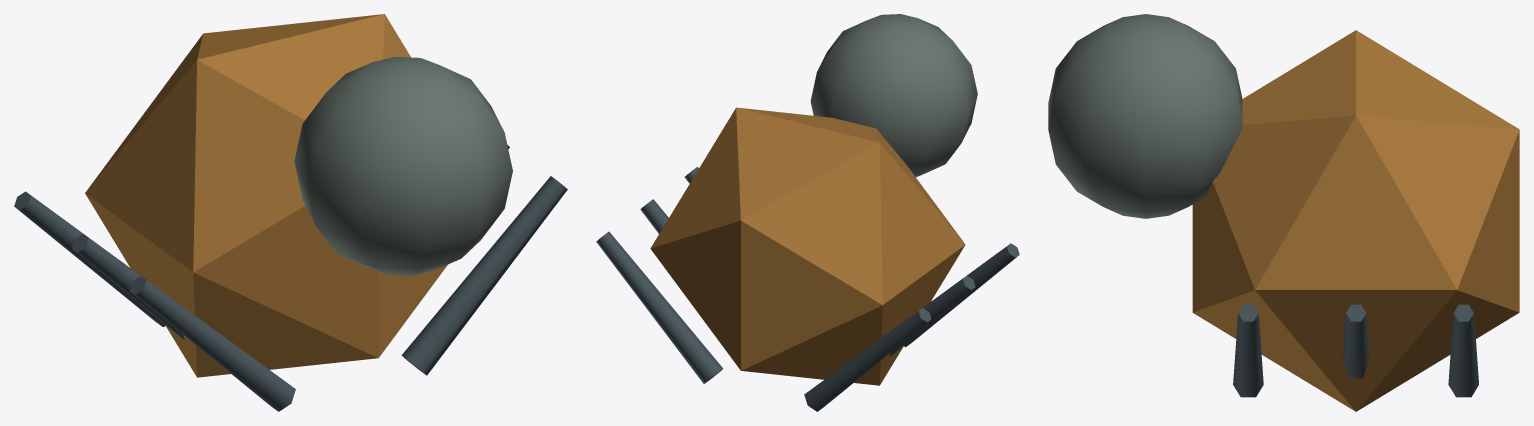
Rendered from spring_beetle.glb.
3 renders of one model, left to right at view 1: azimuth 30°, elevation 25°; view 2: azimuth 150°, elevation 25°; view 3: azimuth 270°, elevation 25°, orthographic. The views are drawn at different scales.
Visible parts, largest first — view 1: body_core, head_core, leg_5, leg_4, leg_0, leg_2; view 2: body_core, head_core, leg_1, leg_0, leg_4, leg_2, leg_3; view 3: body_core, head_core, leg_5, leg_1, leg_3.
Boxes of the visible parts, x1,y1,x2,y2 form: body_core: (85,14,447,377); head_core: (294,56,512,275); leg_5: (401,176,567,375); leg_4: (129,276,295,411); leg_0: (14,191,165,327); leg_2: (72,233,184,339); body_core: (650,107,965,385); head_core: (810,14,977,176); leg_1: (596,231,723,383); leg_0: (804,308,931,411); leg_4: (904,243,1019,347); leg_2: (889,275,975,356); leg_3: (640,199,668,233); body_core: (1192,30,1519,411); head_core: (1048,14,1242,218); leg_5: (1233,304,1263,397); leg_1: (1448,304,1478,397); leg_3: (1342,304,1369,378).
Size of what is drawn, in the model's own units: 1.82 by 1.49 by 1.84.
